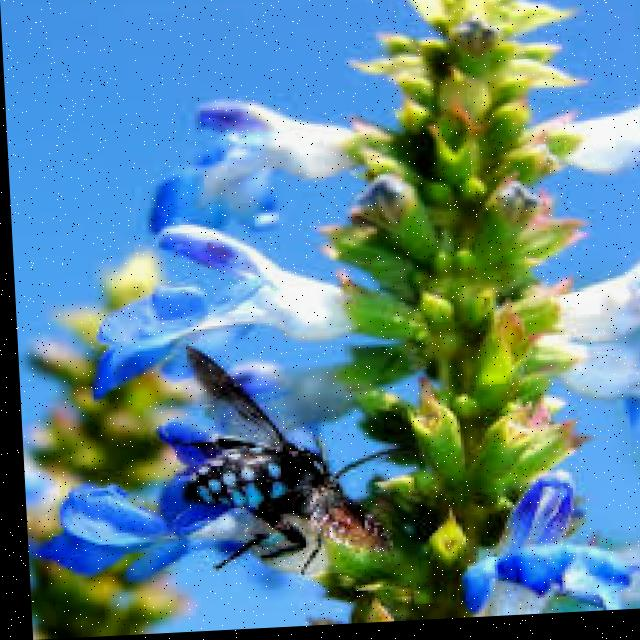Thyreus: (166, 334, 354, 589)
